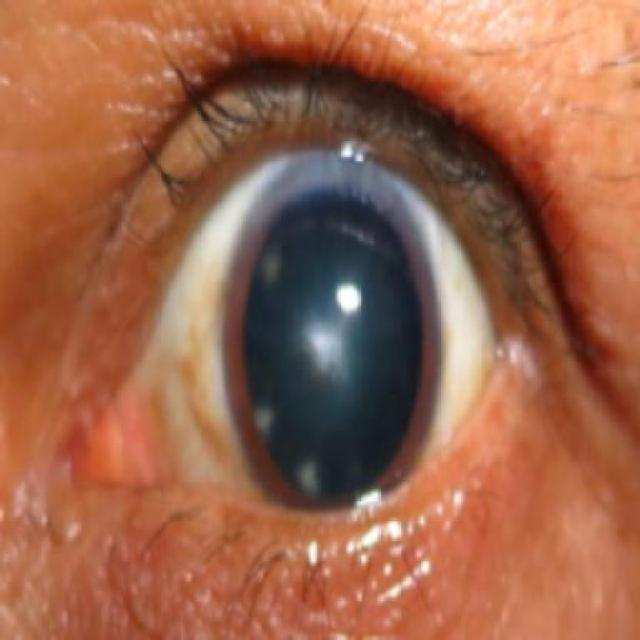Cataract: (223, 158, 443, 521)
